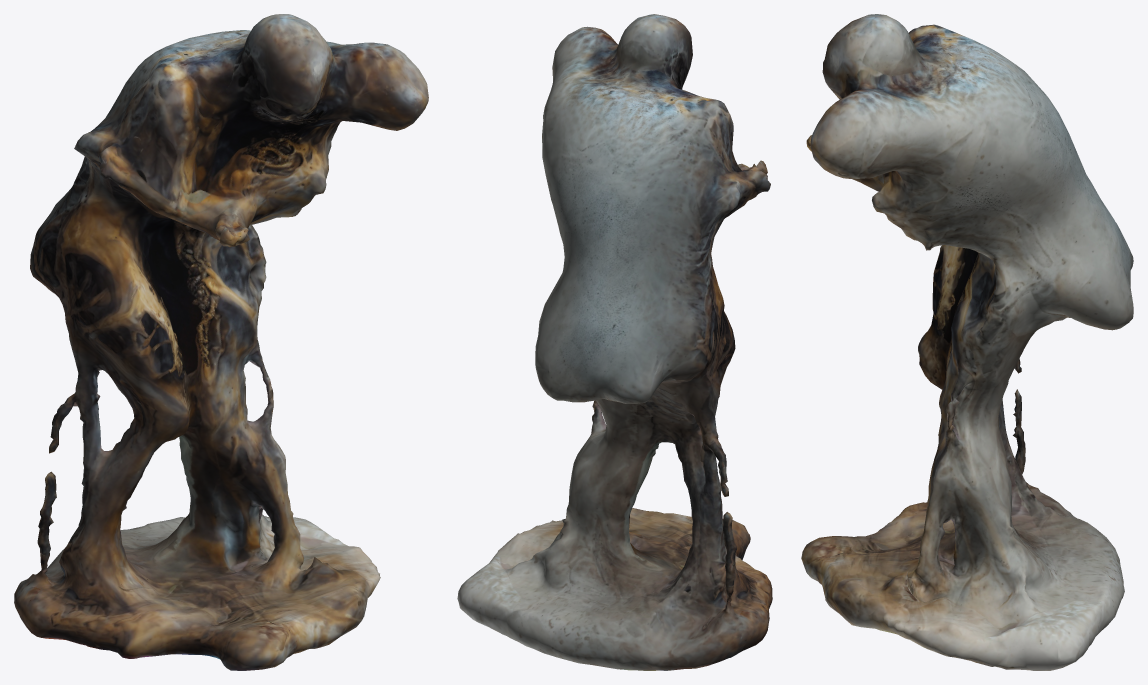
3 renders of one model, left to right at view 1: azimuth 30°, elevation 25°; view 2: azimuth 150°, elevation 25°; view 3: azimuth 270°, elevation 25°, orthographic. The views are drawn at different scales.
Parts seen in each view (by area): view 1: Mesh_0; view 2: Mesh_0; view 3: Mesh_0.
Boxes of the visible parts, left/top/right/bottom form: Mesh_0: left=14, top=14, right=428, bottom=670; Mesh_0: left=457, top=14, right=772, bottom=670; Mesh_0: left=801, top=14, right=1133, bottom=670.
Size of the model in its own units: 62.81 by 120 by 59.49.
1 material, 1 textured.
